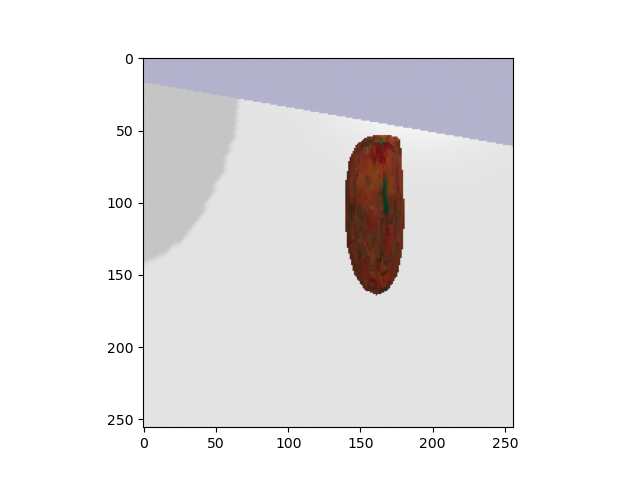v249b387_106: (337, 132, 426, 300)
